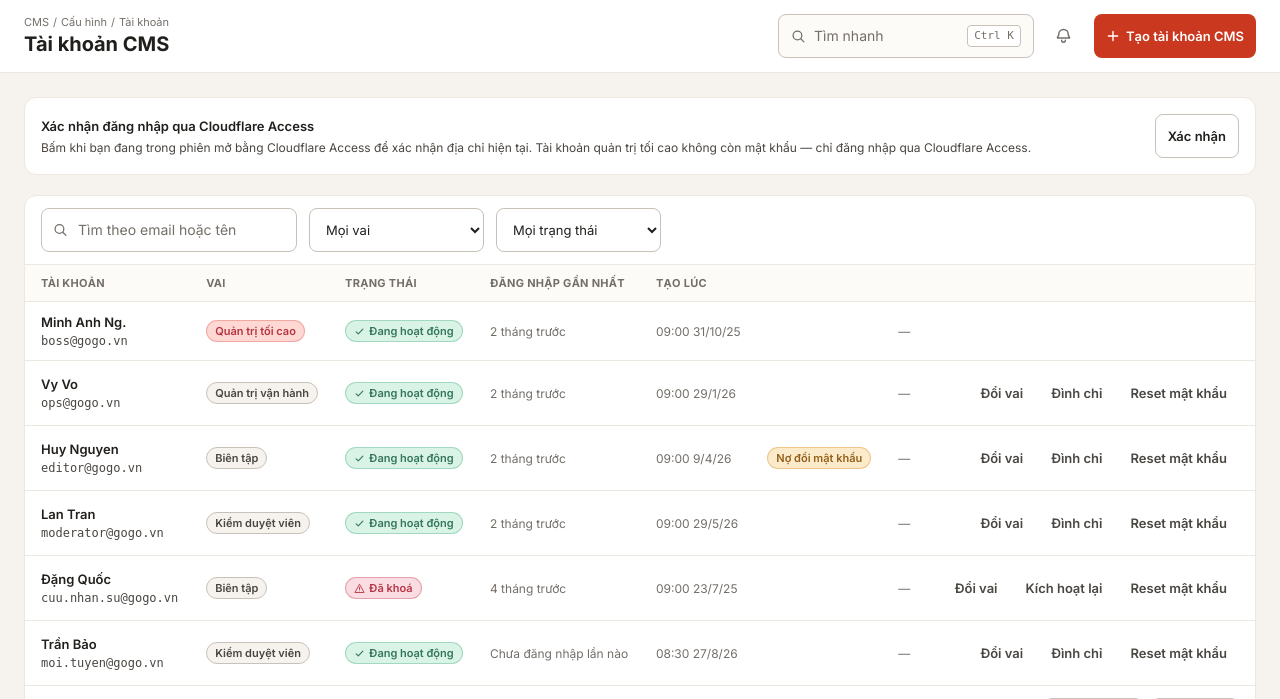
AdminListScreen (CMS-021) › searches on email and display name together
This screenshot has width=1280, height=699.
Expected: the table is shown, [25, 265, 1255, 685]
Type "lan" into the search field labelled "Tìm theo email hoặc tên".
click(169, 230); type("lan")  # box [41, 208, 297, 252]
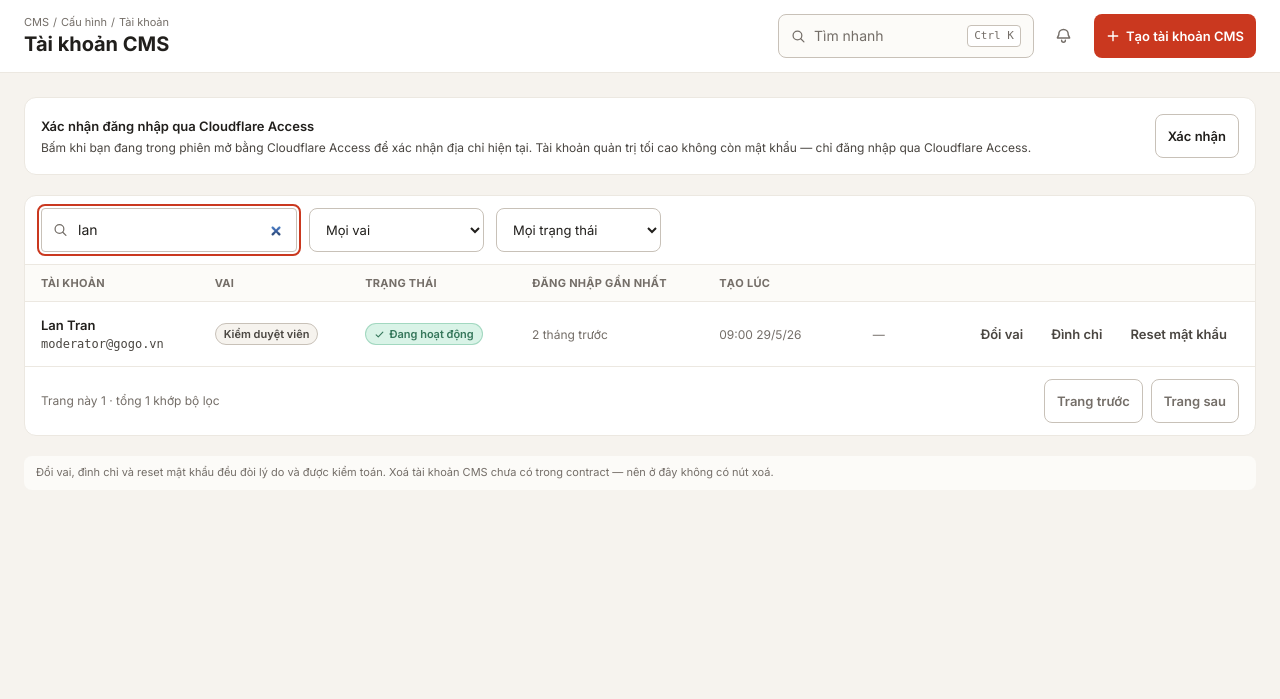
Expected: the text "moderator@gogo.vn" is shown, [41, 337, 164, 351]
Result: the text "Trang này 1 · tổng 1 khớp bộ lọc" is shown at [41, 393, 220, 409]
